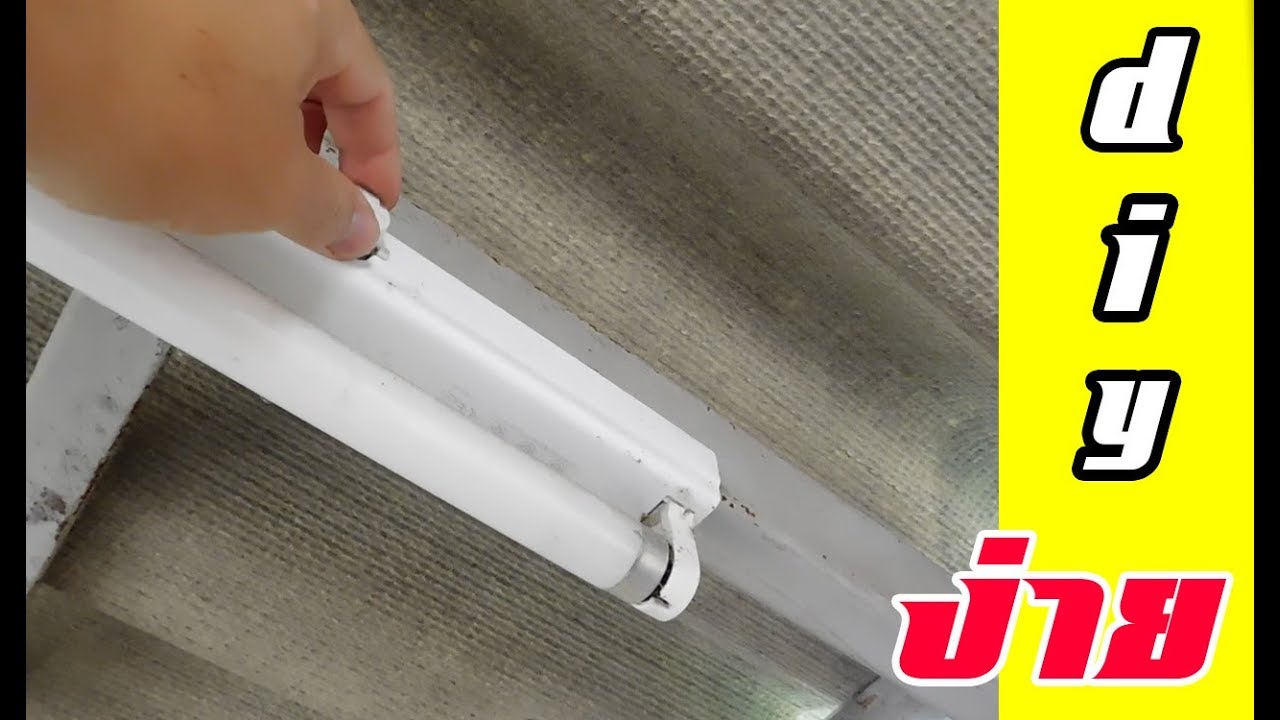Light_bulb: (27, 180, 680, 610)
